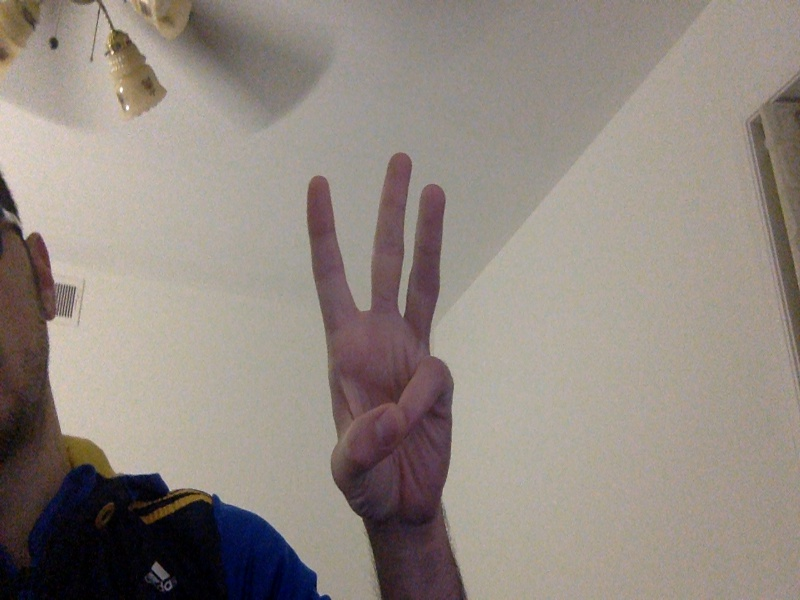3-hand: (303, 153, 456, 530)
